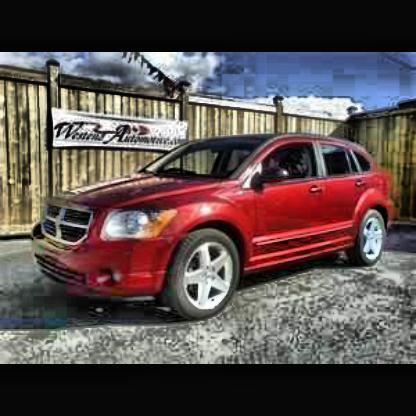Dodge Caliber Wagon 2007: (31, 130, 395, 329)
